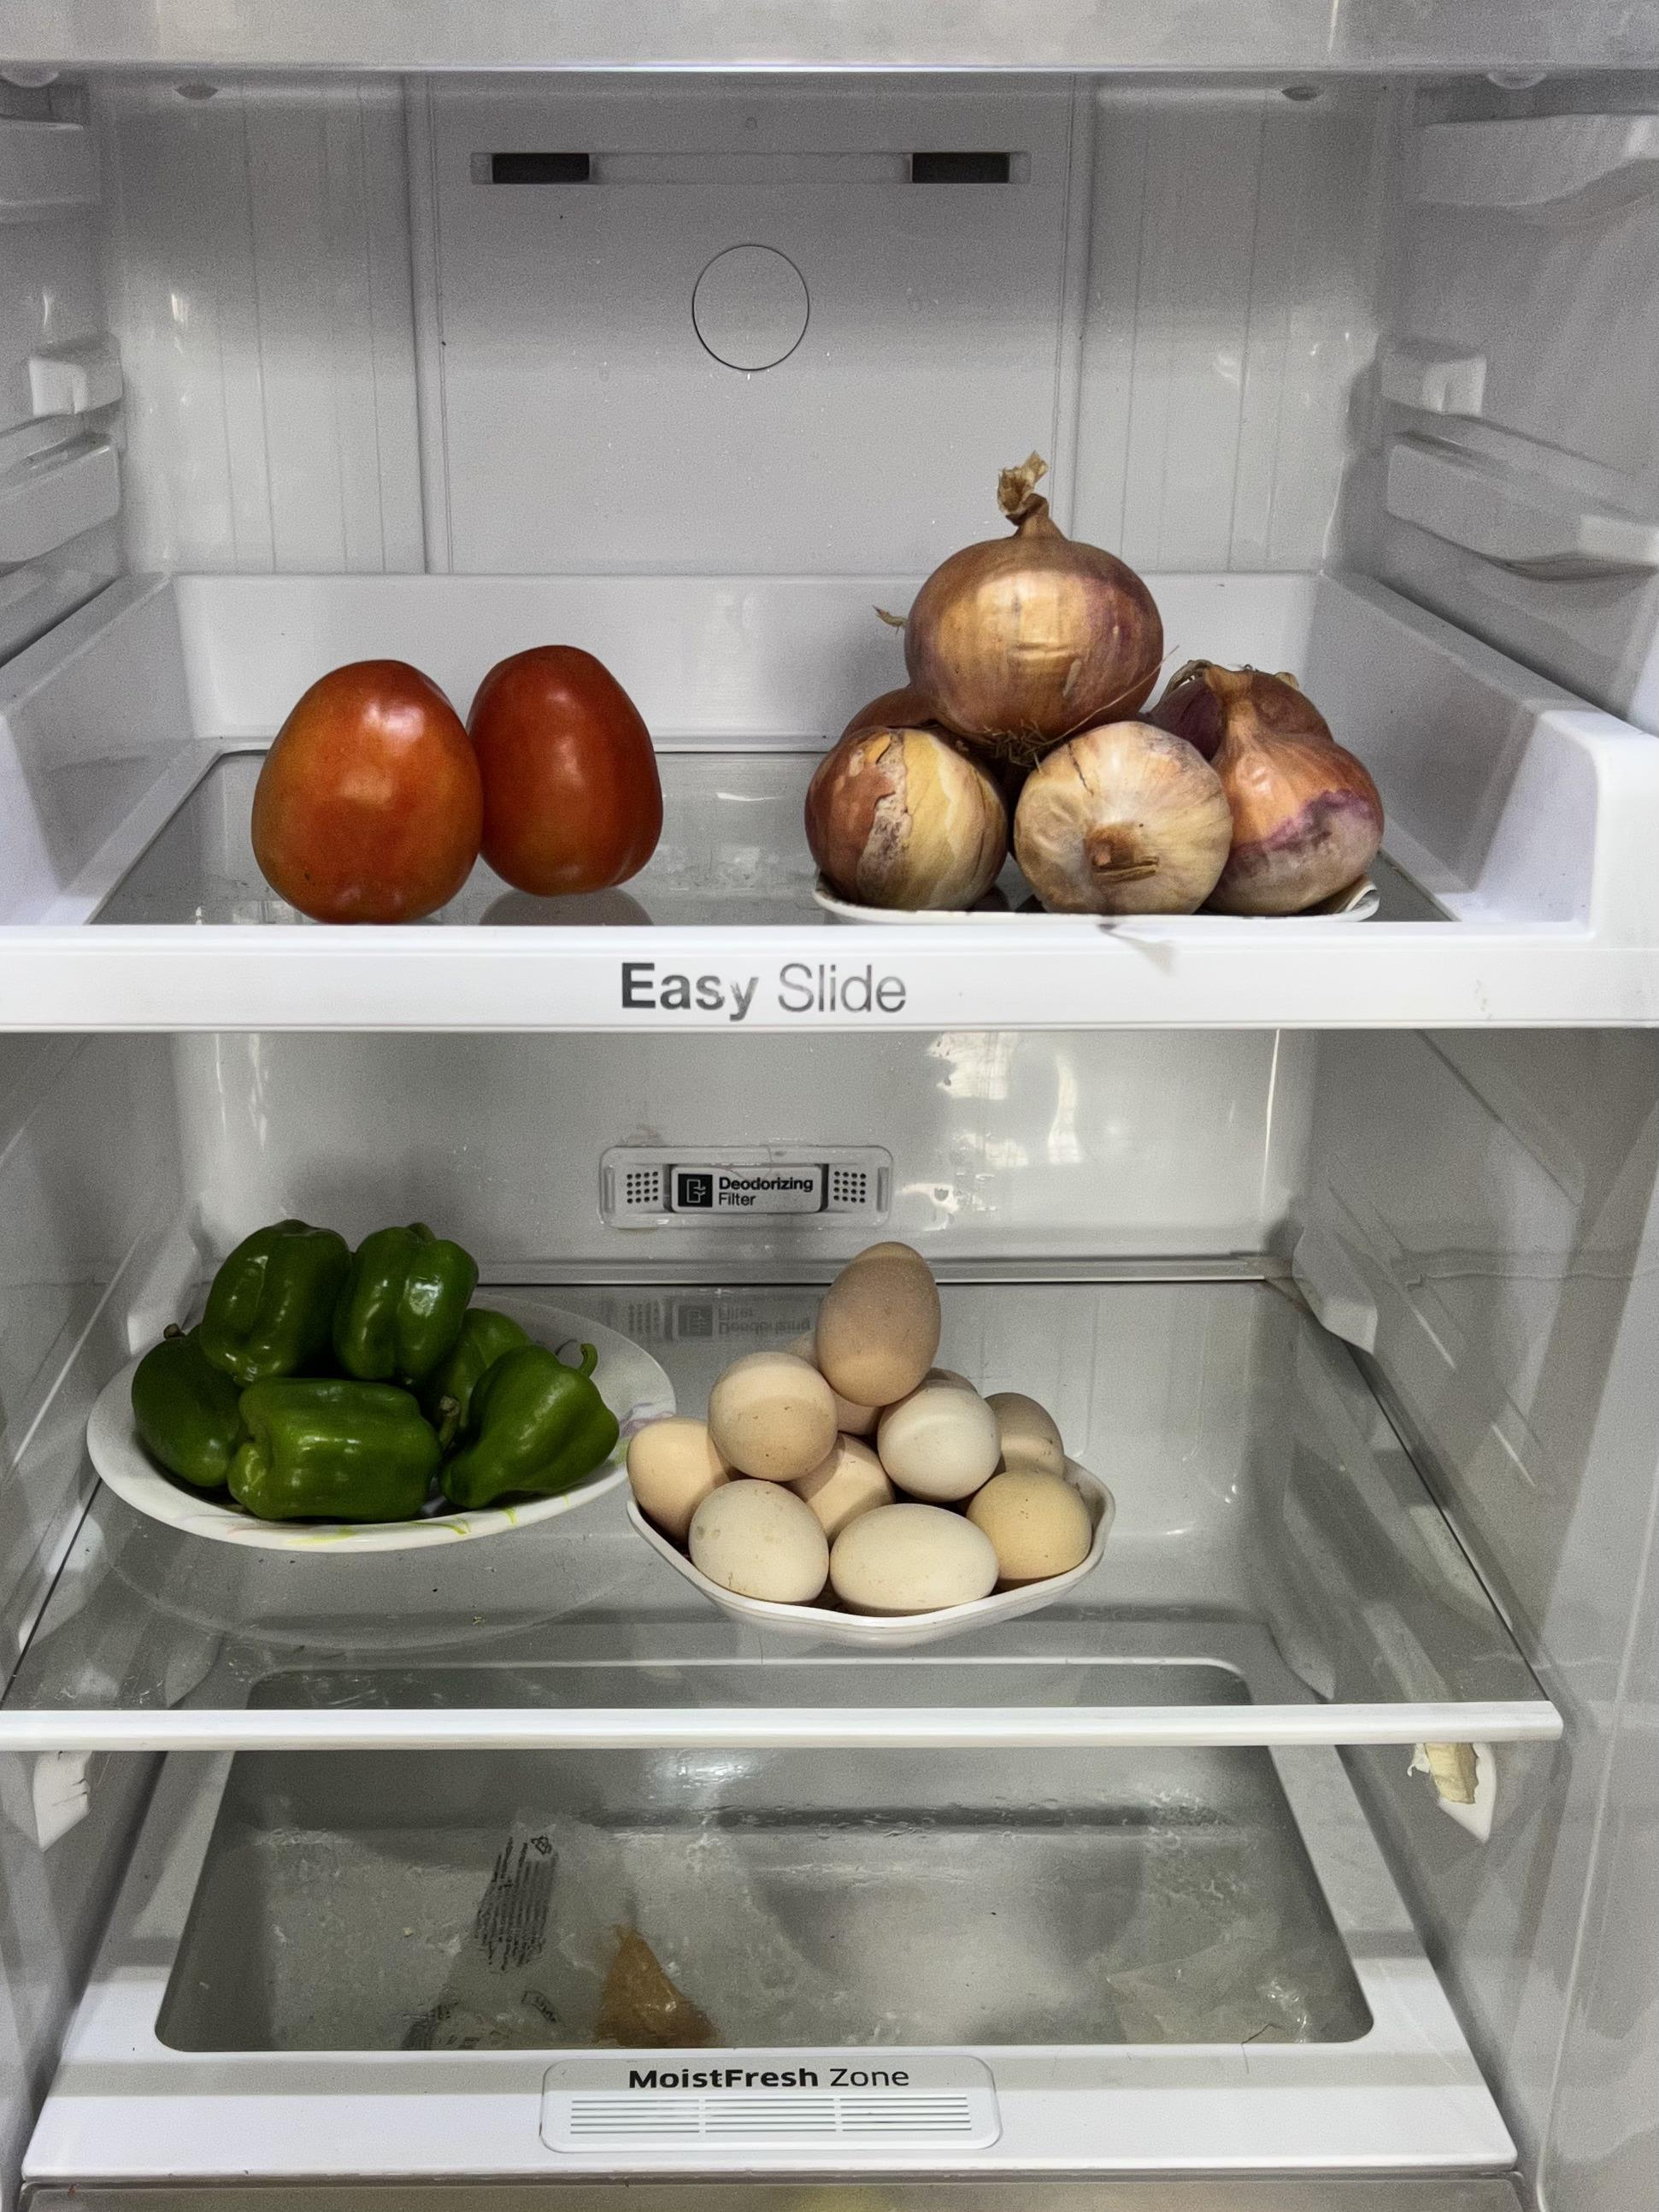capsicum: (120, 1198, 613, 1534)
egg: (638, 1275, 1089, 1618)
onion: (791, 514, 1371, 920)
tomato: (237, 613, 694, 934)
